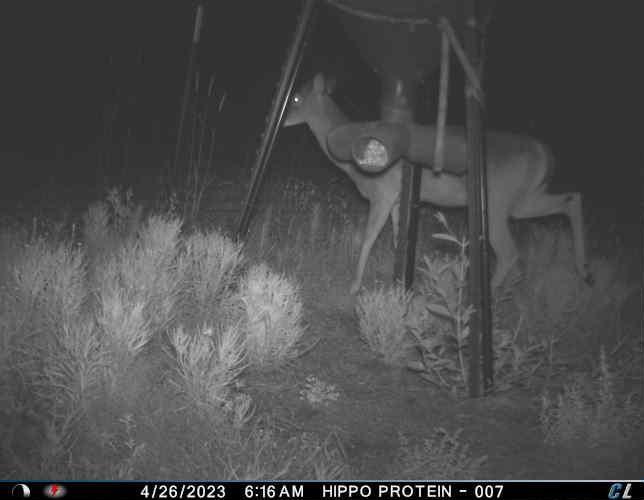Deer: (274, 69, 596, 301)
